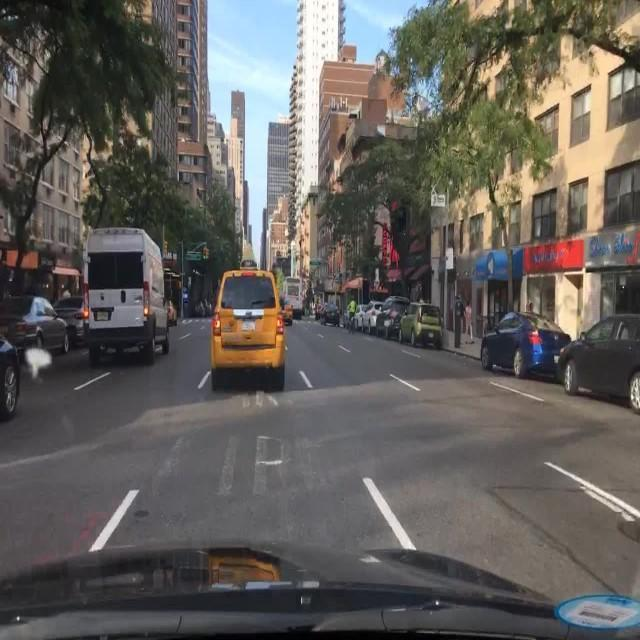normal: (66, 212, 176, 375), (200, 255, 301, 406)
